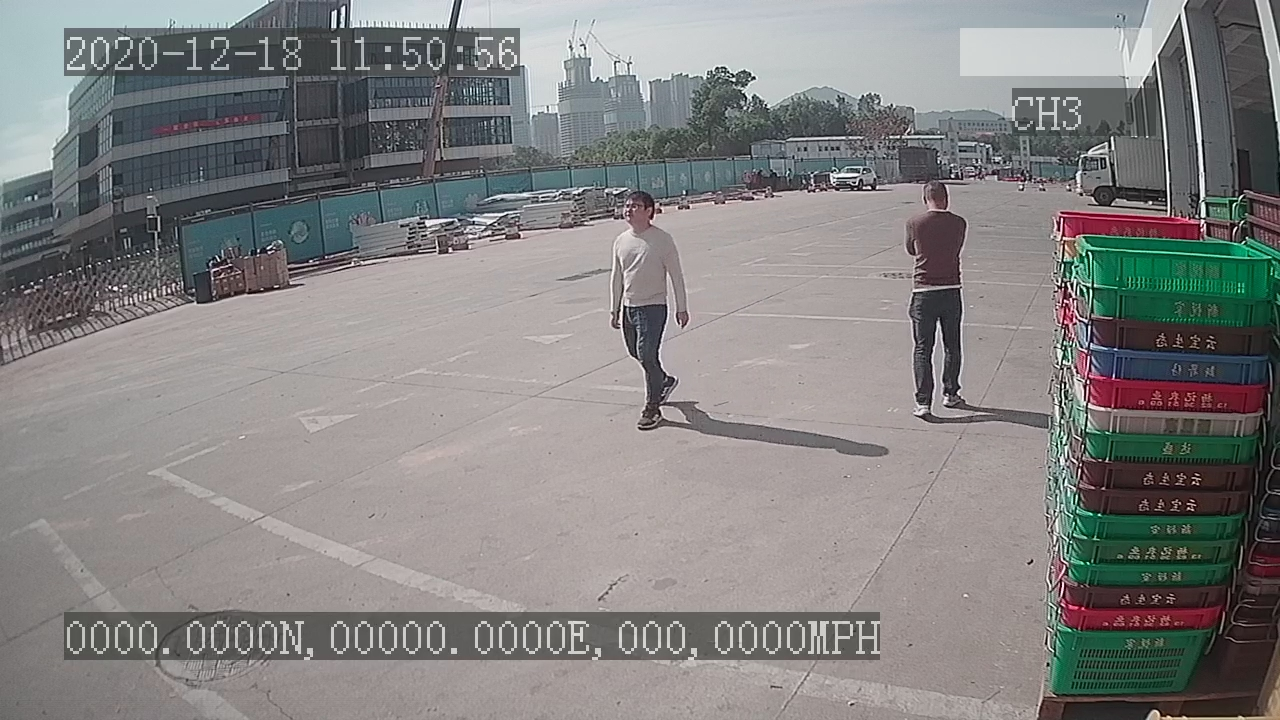person: (597, 188, 695, 438), (897, 174, 976, 426)
